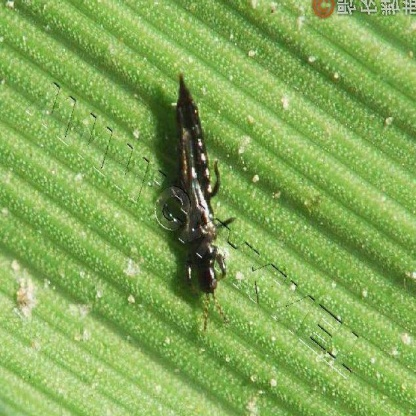Thrips: (151, 59, 225, 298)
